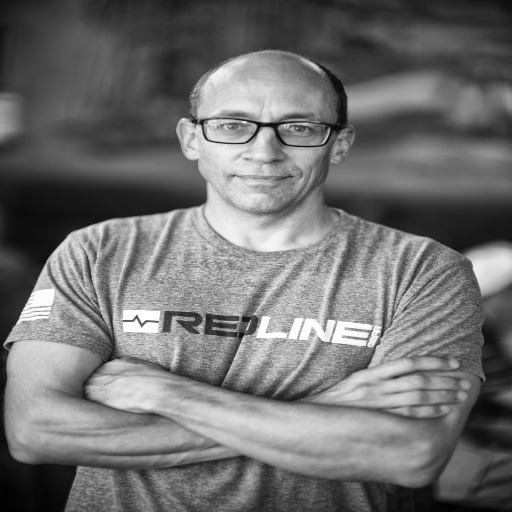hand: (321, 348, 475, 423), (82, 353, 177, 416)
